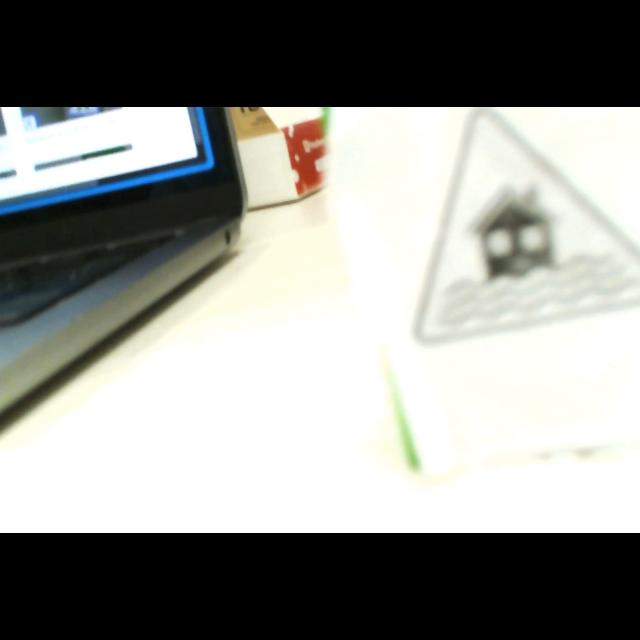Tsunami: (414, 109, 640, 346)
